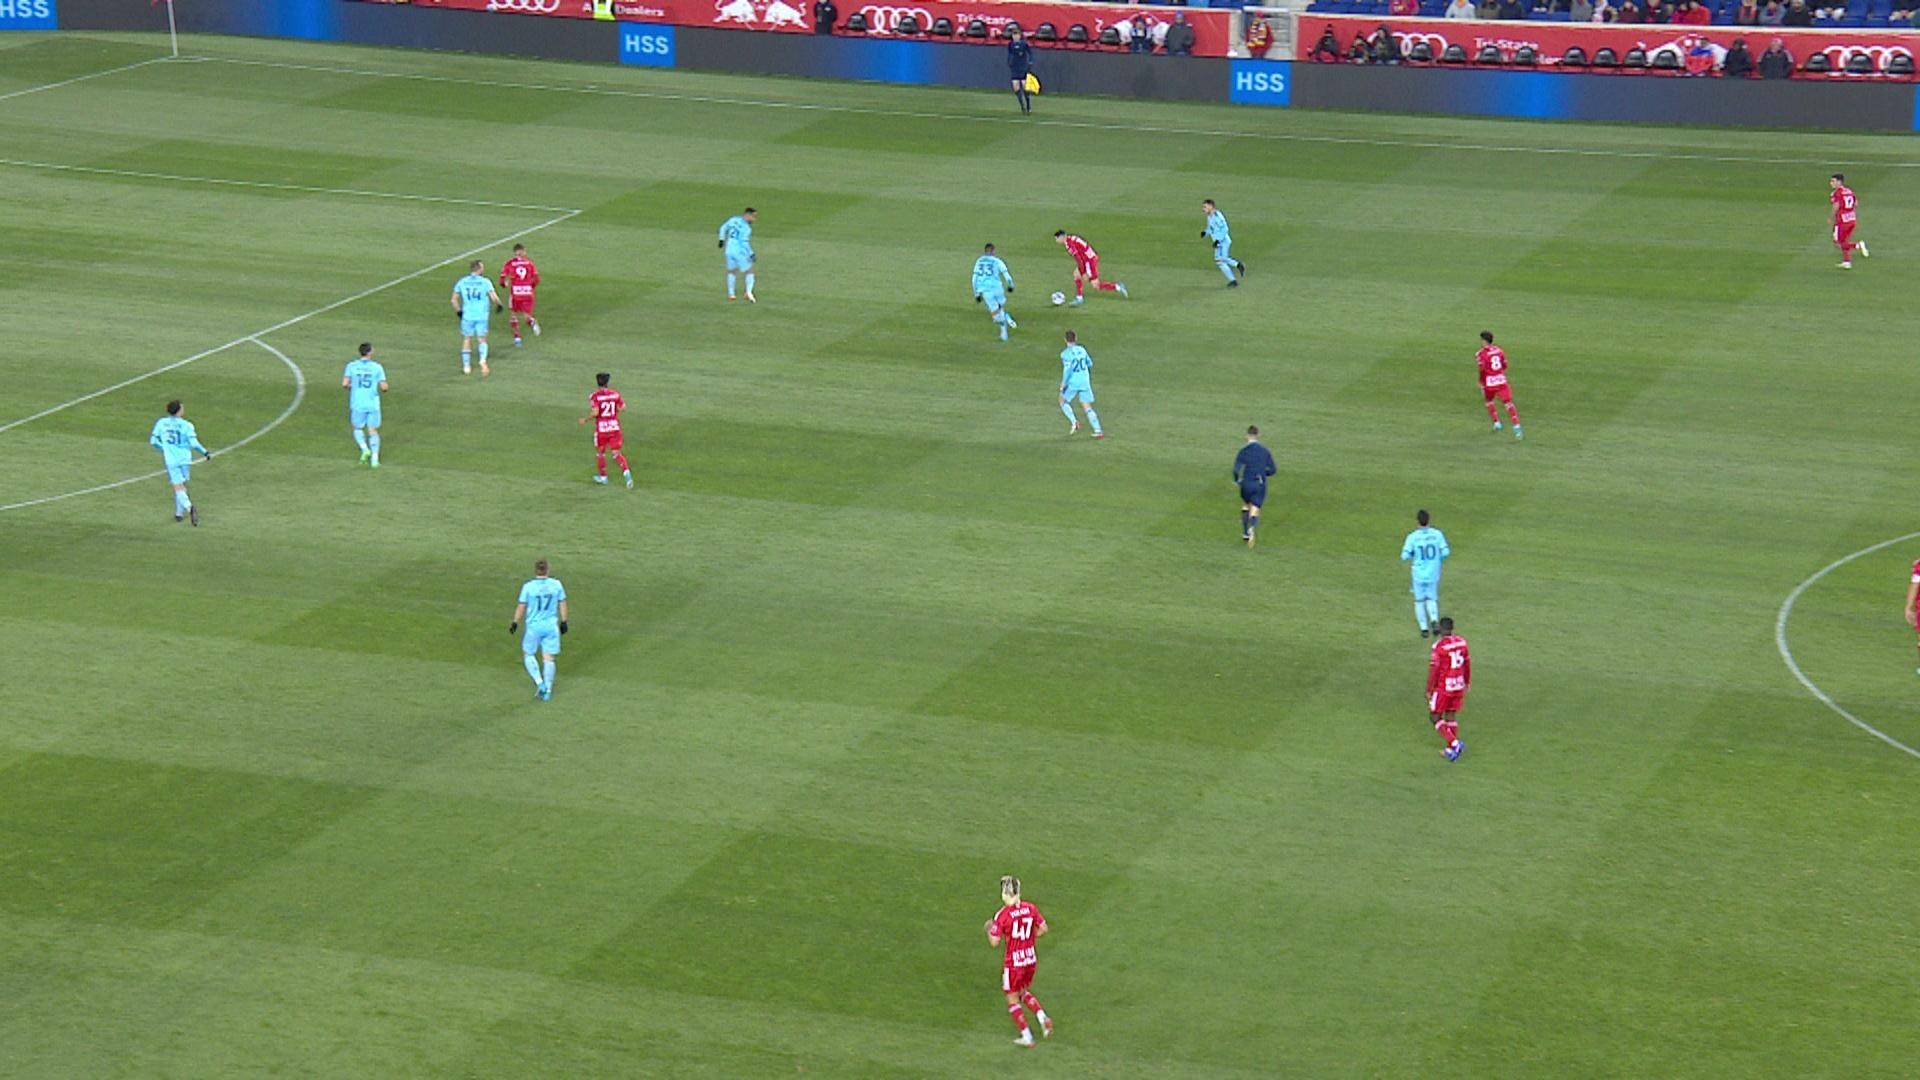football: (1050, 290, 1066, 306)
